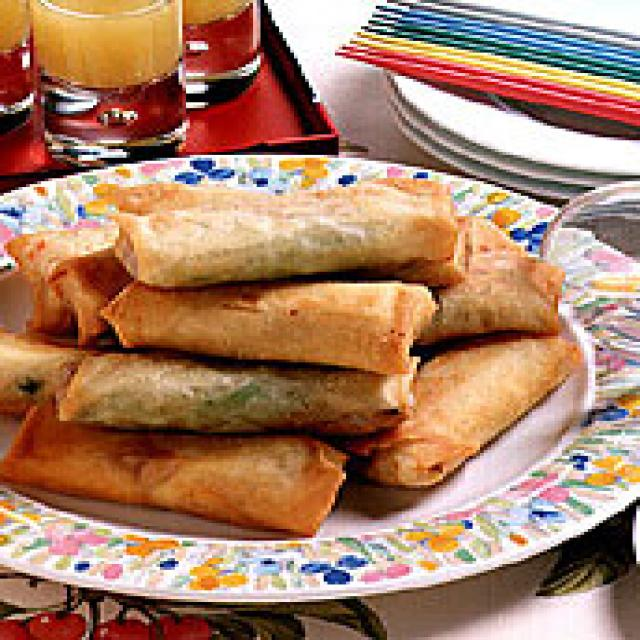鸡蛋料理: (0, 178, 580, 534)
